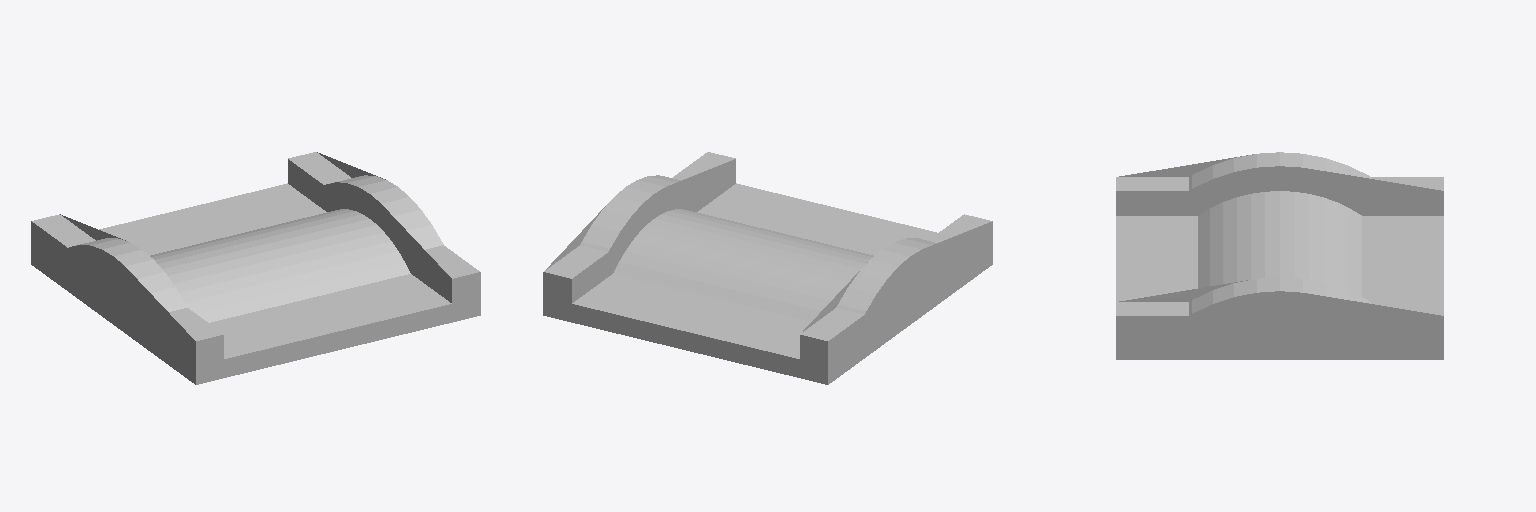
The model's file is Hill_round_01.obj.
3 views of the same model, side by side, from view 1: azimuth 30°, elevation 25°; view 2: azimuth 150°, elevation 25°; view 3: azimuth 270°, elevation 25° (orthographic).
Parts seen in each view (by area): view 1: Mesh1 Hill_round Model; view 2: Mesh1 Hill_round Model; view 3: Mesh1 Hill_round Model.
Part boxes in pixels (x1,y1,x2,y2): Mesh1 Hill_round Model: (31, 152, 480, 384); Mesh1 Hill_round Model: (543, 152, 992, 384); Mesh1 Hill_round Model: (1116, 152, 1443, 359).
Size of the model in its own units: 3 by 0.69 by 3.